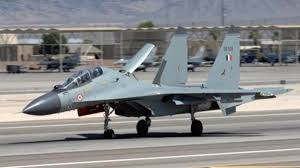maybay_muctieu: (27, 36, 283, 141)
